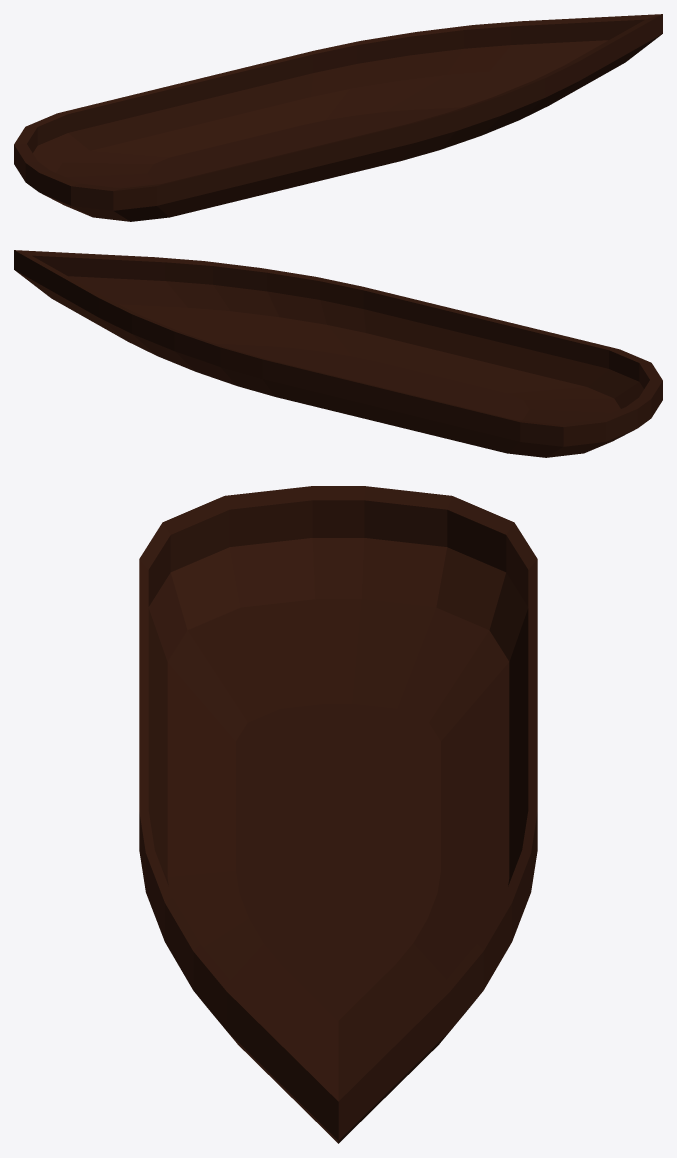
Rendered from Canoe_01.fbx.
3 views of the same model, one above another, from view 1: azimuth 30°, elevation 25°; view 2: azimuth 150°, elevation 25°; view 3: azimuth 270°, elevation 25° (orthographic). The views are drawn at different scales.
Visible parts, largest first — view 1: Canoe_01; view 2: Canoe_01; view 3: Canoe_01.
Part boxes in pixels (x1=…): Canoe_01: x1=14, y1=14, x2=662, y2=221; Canoe_01: x1=14, y1=250, x2=662, y2=457; Canoe_01: x1=139, y1=486, x2=537, y2=1143.
Size of the model in its own units: 507 by 37.89 by 139.
